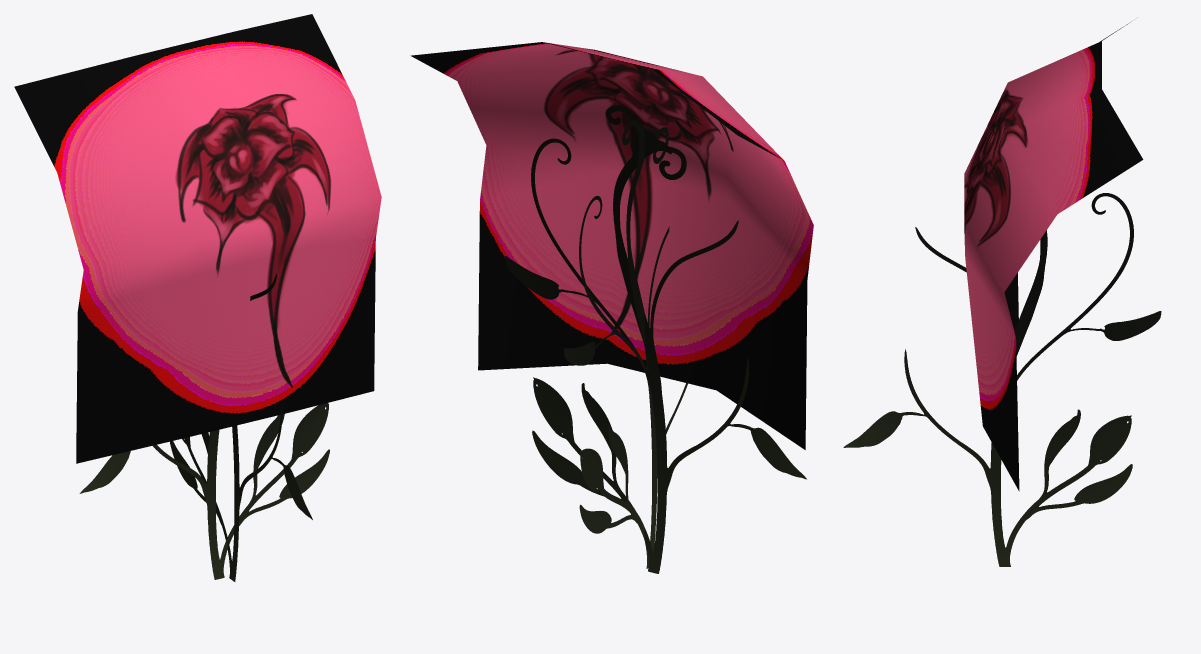
The model's file is BloemRoodkapje.fbx.
The picture shows the model from 3 angles, left to right: view 1: azimuth 30°, elevation 25°; view 2: azimuth 150°, elevation 25°; view 3: azimuth 270°, elevation 25°; orthographic projection. The views are drawn at different scales.
Parts seen in each view (by area): view 1: polySurface3, polySurface1; view 2: polySurface3, polySurface1; view 3: polySurface3, polySurface1.
Boxes of the visible parts, <box> form: polySurface3: <box>14,14,381,463</box>; polySurface1: <box>79,206,329,581</box>; polySurface3: <box>410,42,813,449</box>; polySurface1: <box>505,105,806,573</box>; polySurface3: <box>964,21,1143,491</box>; polySurface1: <box>843,181,1161,566</box>.
Size of the model in its own units: 0.7995 by 1.28 by 0.7995.
